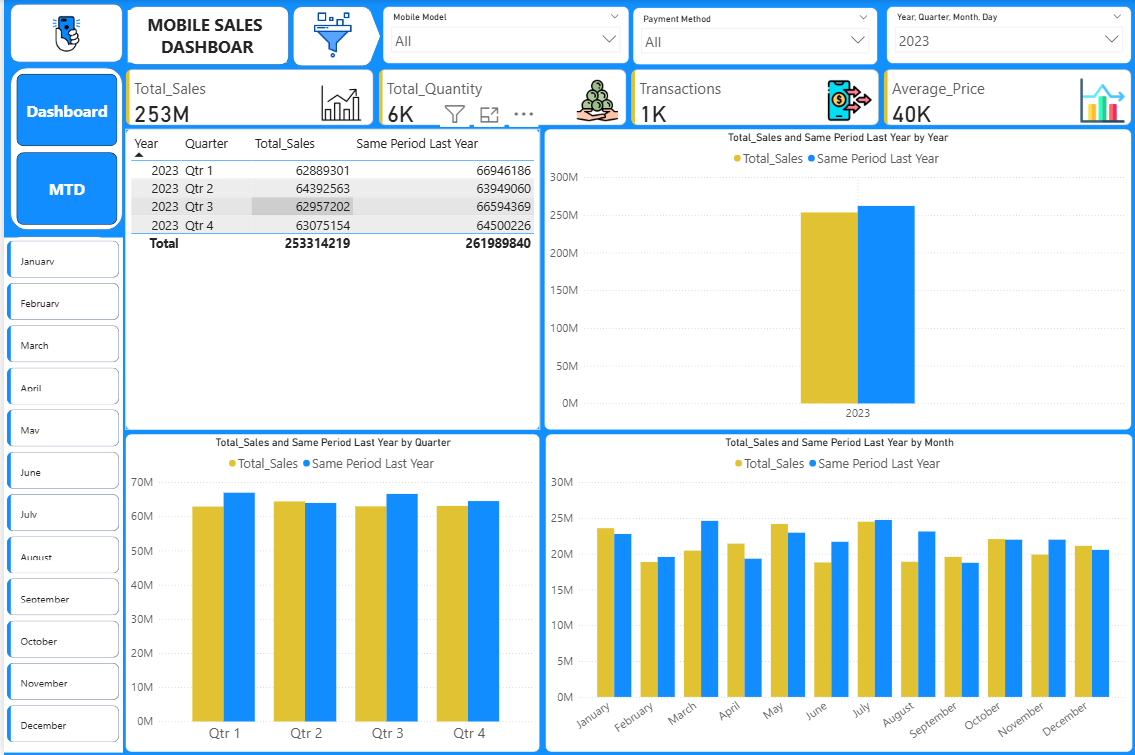

This screenshot's page, from the dashboard's own definition file:
{"tool":"powerbi","page":{"name":"Same Period LY","canvas":[1800,1200],"ordinal":2},"visuals":[{"type":"shape","box":[9.9,6,178.6,93.3],"z":0},{"type":"image","box":[57.5,11.9,83.3,83.3],"z":1000},{"type":"shape","box":[9.9,107.1,178.6,257.9],"z":2000},{"type":"shape","box":[4,375,166.7,805.6],"z":3000},{"type":"cardVisual","fields":{"Data":["Sales Data.Total_Sales","Sales Data.Total_Quantity","Sales Data.Transactions","Sales Data.Average_Price"]},"box":[188.5,105.2,1607.2,99.2],"z":4000},{"type":"slicer","fields":{"Values":["Sales Data.Mobile Model"]},"box":[601.2,9.9,390.9,91.3],"z":5000},{"type":"slicer","fields":{"Values":["Sales Data.Payment Method"]},"box":[998,11.9,388.9,91.3],"z":6000},{"type":"slicer","fields":{"Values":["Custom_Calendar.Date.Variation.Date Hierarchy.Year","Custom_Calendar.Date.Variation.Date Hierarchy.Quarter","Custom_Calendar.Date.Variation.Date Hierarchy.Month","Custom_Calendar.Date.Variation.Date Hierarchy.Day"]},"box":[1400.8,9.9,388.9,91.3],"z":7000},{"type":"shape","box":[458.3,9.9,125,95.2],"z":8000},{"type":"image","box":[464.3,13.9,115.1,83.3],"z":9000},{"type":"shape","box":[563.5,13.9,33.7,87.3],"z":10000},{"type":"shape","box":[196.4,9.9,256,93.3],"z":11000},{"type":"textbox","box":[196.4,15.9,252,83.3],"z":12000},{"type":"tableEx","fields":{"Values":["Custom_Calendar.Date.Variation.Date Hierarchy.Year","Custom_Calendar.Date.Variation.Date Hierarchy.Quarter","Sales Data.Total_Sales","Sales Data.Same Period Last Year"]},"box":[192.5,204.4,658.7,478.2],"z":13000},{"type":"advancedSlicerVisual","fields":{"Values":["Custom_Calendar.Date.Variation.Date Hierarchy.Month"]},"box":[0,377,188.5,817.5],"z":14000},{"type":"clusteredColumnChart","fields":{"Category":["Custom_Calendar.Date.Variation.Date Hierarchy.Year","Custom_Calendar.Date.Variation.Date Hierarchy.Quarter"],"Y":["Sales Data.Total_Sales","Sales Data.Same Period Last Year"]},"box":[857.1,204.4,932.5,478.2],"z":15000},{"type":"clusteredColumnChart","fields":{"Category":["Custom_Calendar.Date.Variation.Date Hierarchy.Year","Custom_Calendar.Date.Variation.Date Hierarchy.Quarter"],"Y":["Sales Data.Total_Sales","Sales Data.Same Period Last Year"]},"box":[192.5,688.5,658.7,506],"z":16000},{"type":"clusteredColumnChart","fields":{"Y":["Sales Data.Total_Sales","Sales Data.Same Period Last Year"],"Category":["Custom_Calendar.Date.Variation.Date Hierarchy.Month","Custom_Calendar.Date.Variation.Date Hierarchy.Day"]},"box":[859.1,688.5,932.5,506],"z":17000},{"type":"pageNavigator","box":[19.8,117.1,160.7,240.1],"z":18500}]}

Visuals, with their boxes in screenshot pixels (x1, y1, x2, y2), scaled from the page's 1800x1200 canvas onto the 1135x755 screenshot:
shape: bbox=(6, 4, 119, 62)
image: bbox=(36, 7, 89, 60)
shape: bbox=(6, 67, 119, 230)
shape: bbox=(3, 236, 108, 743)
cardVisual - Sales Data.Total_Sales x Sales Data.Total_Quantity: bbox=(119, 66, 1132, 129)
slicer - Sales Data.Mobile Model: bbox=(379, 6, 626, 64)
slicer - Sales Data.Payment Method: bbox=(629, 7, 875, 65)
slicer - Custom_Calendar.Date.Variation.Date Hierarchy.Year x Custom_Calendar.Date.Variation.Date Hierarchy.Quarter: bbox=(883, 6, 1129, 64)
shape: bbox=(289, 6, 368, 66)
image: bbox=(293, 9, 365, 61)
shape: bbox=(355, 9, 377, 64)
shape: bbox=(124, 6, 285, 65)
textbox: bbox=(124, 10, 283, 62)
tableEx - Custom_Calendar.Date.Variation.Date Hierarchy.Year x Custom_Calendar.Date.Variation.Date Hierarchy.Quarter: bbox=(121, 129, 537, 429)
advancedSlicerVisual - Custom_Calendar.Date.Variation.Date Hierarchy.Month: bbox=(0, 237, 119, 752)
clusteredColumnChart - Custom_Calendar.Date.Variation.Date Hierarchy.Year x Custom_Calendar.Date.Variation.Date Hierarchy.Quarter: bbox=(540, 129, 1128, 429)
clusteredColumnChart - Custom_Calendar.Date.Variation.Date Hierarchy.Year x Custom_Calendar.Date.Variation.Date Hierarchy.Quarter: bbox=(121, 433, 537, 752)
clusteredColumnChart - Sales Data.Total_Sales x Sales Data.Same Period Last Year: bbox=(542, 433, 1130, 752)
pageNavigator: bbox=(12, 74, 114, 225)
